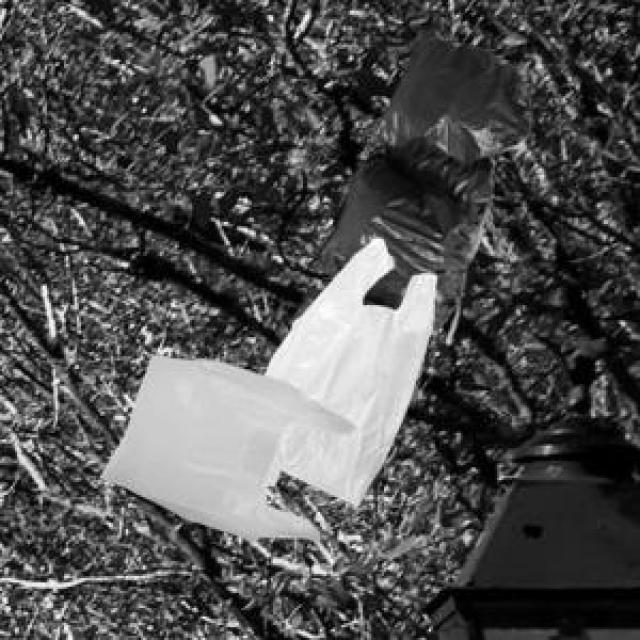miscellaneous trash: (290, 11, 529, 341)
